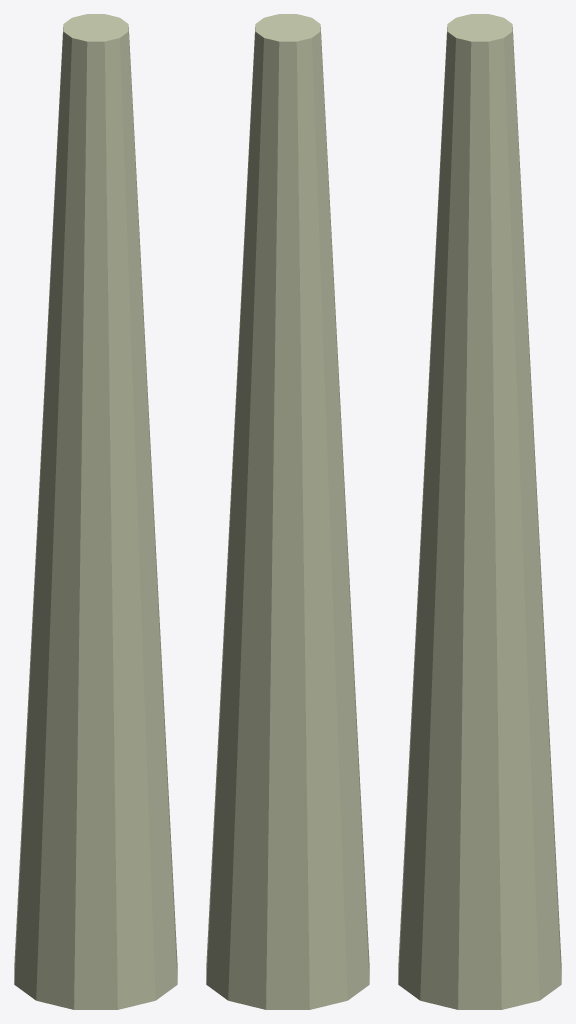
The model's file is octans_les_s0_1_collider.obj.
3 renders of one model, left to right at view 1: azimuth 30°, elevation 25°; view 2: azimuth 150°, elevation 25°; view 3: azimuth 270°, elevation 25°, orthographic.
Parts seen in each view (by area): view 1: coll; view 2: coll; view 3: coll.
Part boxes in pixels (x1,y1,x2,y2): coll: (14, 14, 177, 1009); coll: (206, 14, 369, 1009); coll: (398, 14, 561, 1009).
Bounding box in the file's own units: 0.625 × 4 × 0.625.
